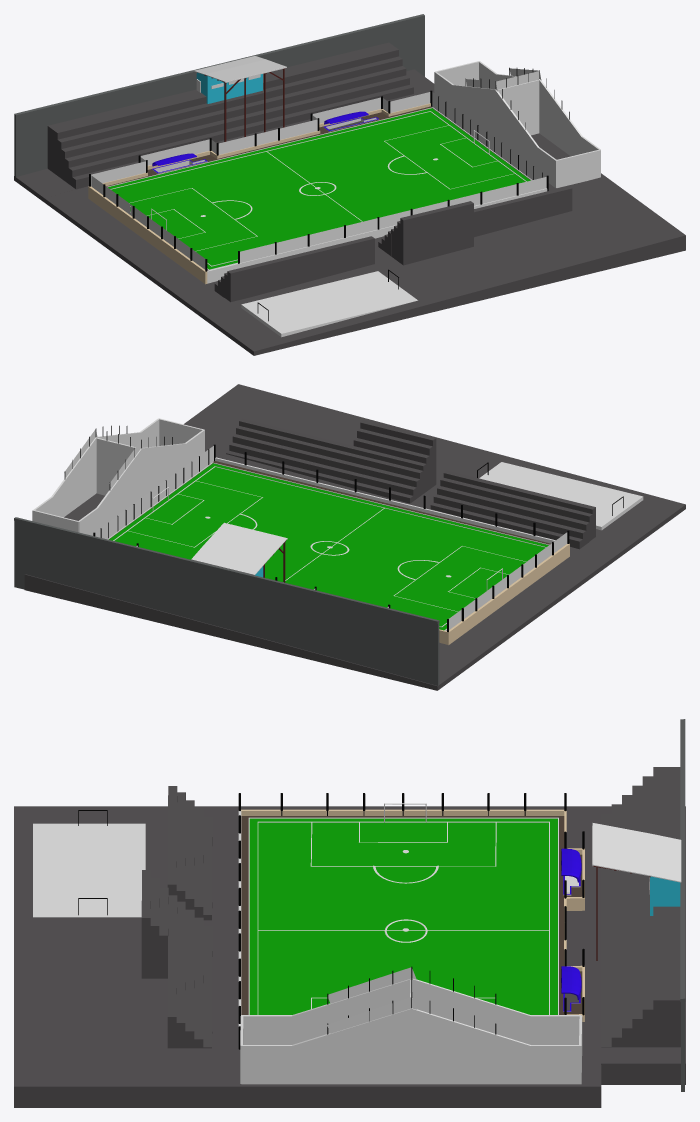
The model's file is cancha3.glb.
3 renders of one model, top to bottom at view 1: azimuth 30°, elevation 25°; view 2: azimuth 150°, elevation 25°; view 3: azimuth 270°, elevation 25°, orthographic. The views are drawn at different scales.
Parts seen in each view (by area): view 1: Cube, Plane.015, Plane.014, Plane.017, Plane.013, Plane.016; view 2: Cube, Plane.017, Plane.018, Plane.016, Plane.020; view 3: Cube, Plane.029, Plane.027.
Part boxes in pixels (x1,y1,x2,y2): Cube: (14, 14, 685, 355); Plane.015: (140, 139, 209, 165); Plane.014: (312, 97, 380, 123); Plane.017: (471, 120, 511, 164); Plane.013: (91, 161, 145, 185); Plane.016: (432, 92, 470, 134); Cube: (14, 384, 685, 690); Plane.017: (134, 474, 175, 518); Plane.018: (174, 446, 213, 488); Plane.016: (95, 504, 133, 539); Plane.020: (487, 560, 529, 601); Cube: (14, 719, 685, 1107); Plane.029: (327, 997, 416, 1033); Plane.027: (328, 967, 416, 1003).
Size of the model in its own units: 133 by 24.74 by 128.
